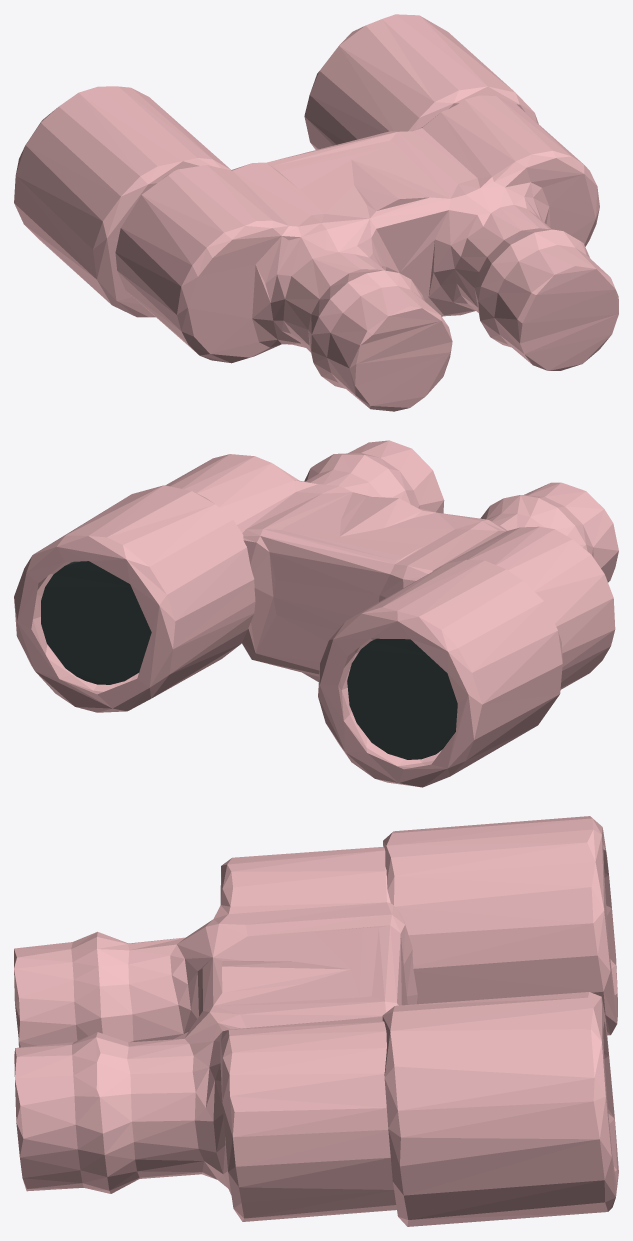
File: fernglas.glb
3 renders of one model, top to bottom at view 1: azimuth 30°, elevation 25°; view 2: azimuth 150°, elevation 25°; view 3: azimuth 270°, elevation 25°, orthographic. The views are drawn at different scales.
Parts seen in each view (by area): view 1: 292239_23_06_11_15_35_11_0, 292239_23_06_11_15_35_11_2, 292239_23_06_11_15_35_11_1; view 2: 292239_23_06_11_15_35_11_0, 292239_23_06_11_15_35_11_2, 292239_23_06_11_15_35_11_1, 292239_23_06_11_15_35_11_4, 292239_23_06_11_15_35_11_3; view 3: 292239_23_06_11_15_35_11_0, 292239_23_06_11_15_35_11_1, 292239_23_06_11_15_35_11_2.
Boxes of the visible parts, box(x1,y1,x2,y2) form: 292239_23_06_11_15_35_11_0: box(115, 95, 618, 411); 292239_23_06_11_15_35_11_2: box(14, 86, 230, 317); 292239_23_06_11_15_35_11_1: box(304, 14, 538, 149); 292239_23_06_11_15_35_11_0: box(165, 440, 618, 689); 292239_23_06_11_15_35_11_2: box(318, 559, 562, 787); 292239_23_06_11_15_35_11_1: box(14, 485, 255, 712); 292239_23_06_11_15_35_11_4: box(347, 638, 457, 759); 292239_23_06_11_15_35_11_3: box(41, 561, 151, 684); 292239_23_06_11_15_35_11_0: box(14, 847, 417, 1221); 292239_23_06_11_15_35_11_1: box(382, 992, 618, 1226); 292239_23_06_11_15_35_11_2: box(383, 816, 617, 1035).
Size of the model in its own units: 11.24 by 4.2 by 10.69.
5 materials, 5 textured.
